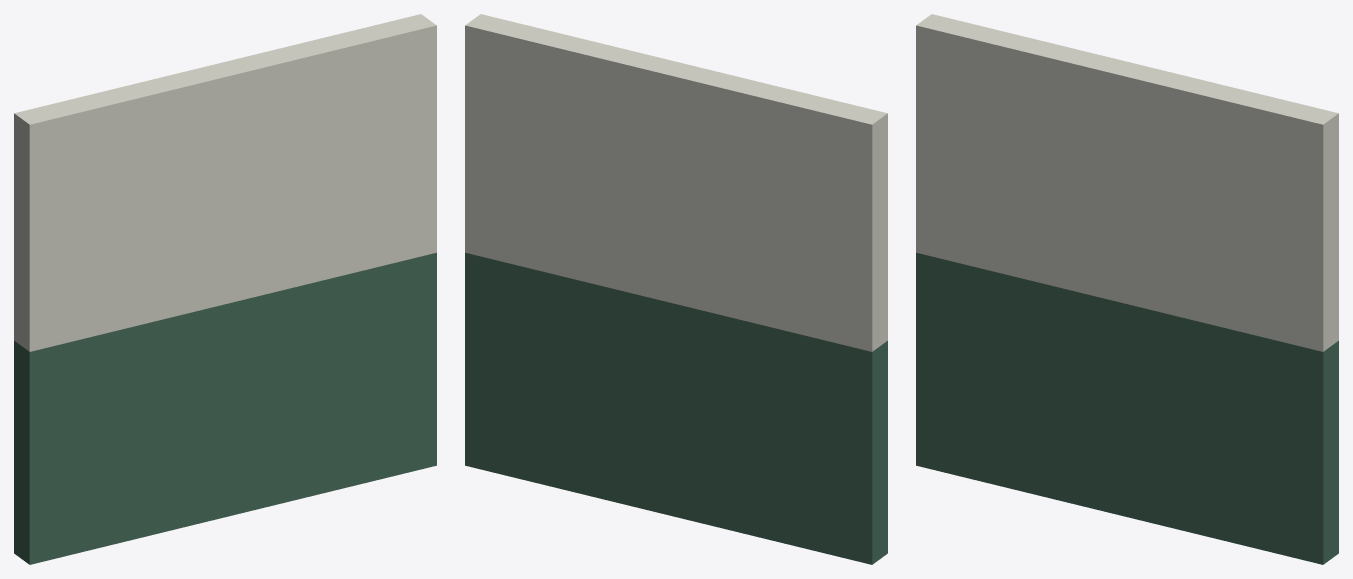
The model's file is hosp_wall.glb.
3 views of the same model, side by side, from view 1: azimuth 30°, elevation 25°; view 2: azimuth 150°, elevation 25°; view 3: azimuth 330°, elevation 25° (orthographic).
Parts seen in each view (by area): view 1: hosp_wall-col; view 2: hosp_wall-col; view 3: hosp_wall-col.
Part boxes in pixels (x1,y1,x2,y2): hosp_wall-col: (14, 14, 436, 564); hosp_wall-col: (465, 14, 887, 564); hosp_wall-col: (916, 14, 1338, 564).
Bounding box in the file's own units: 3 × 3.1 × 0.2.
